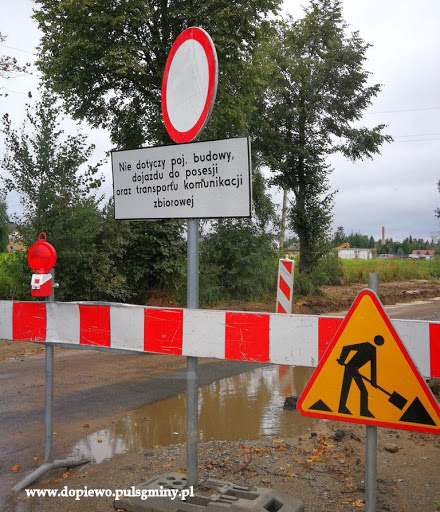no_entry_sign: (160, 26, 218, 144)
